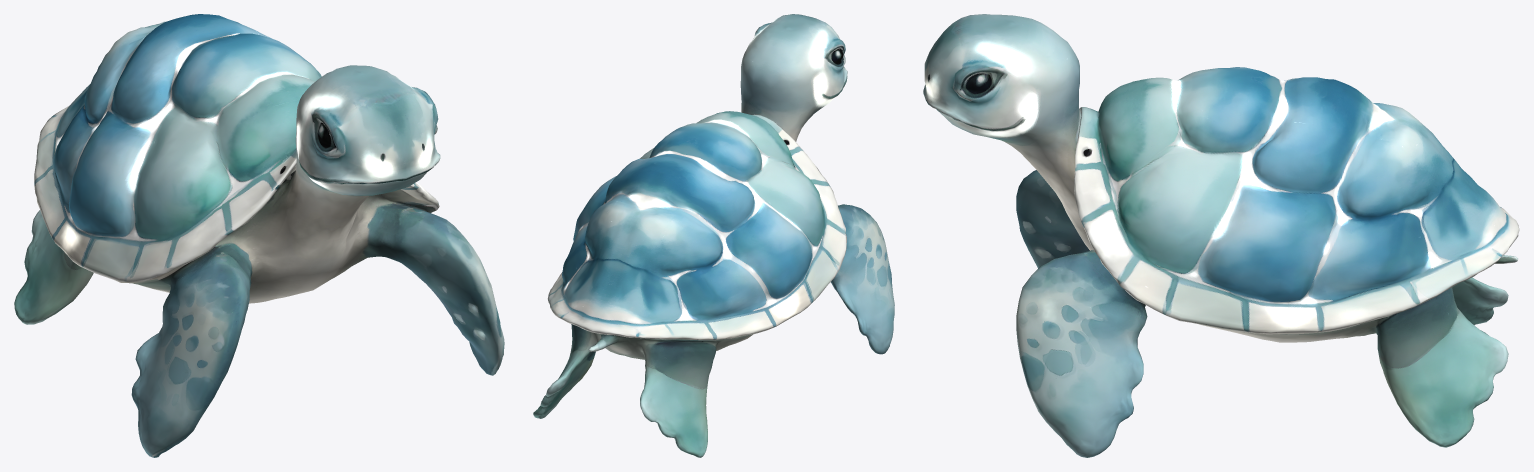
Rendered from Azure-sea-turtle.glb.
3 views of the same model, side by side, from view 1: azimuth 30°, elevation 25°; view 2: azimuth 150°, elevation 25°; view 3: azimuth 270°, elevation 25° (orthographic). The views are drawn at different scales.
Size of the model in its own units: 1.24 by 1.32 by 1.91.
1 material, 1 textured.
